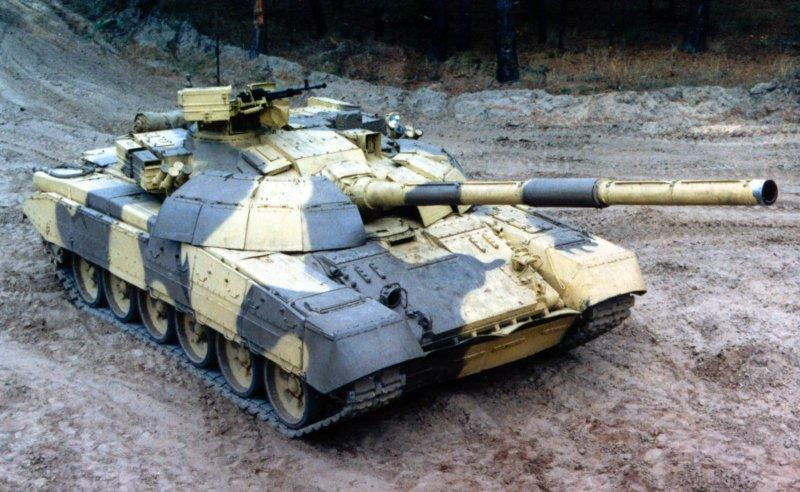tank: (32, 46, 788, 445)
